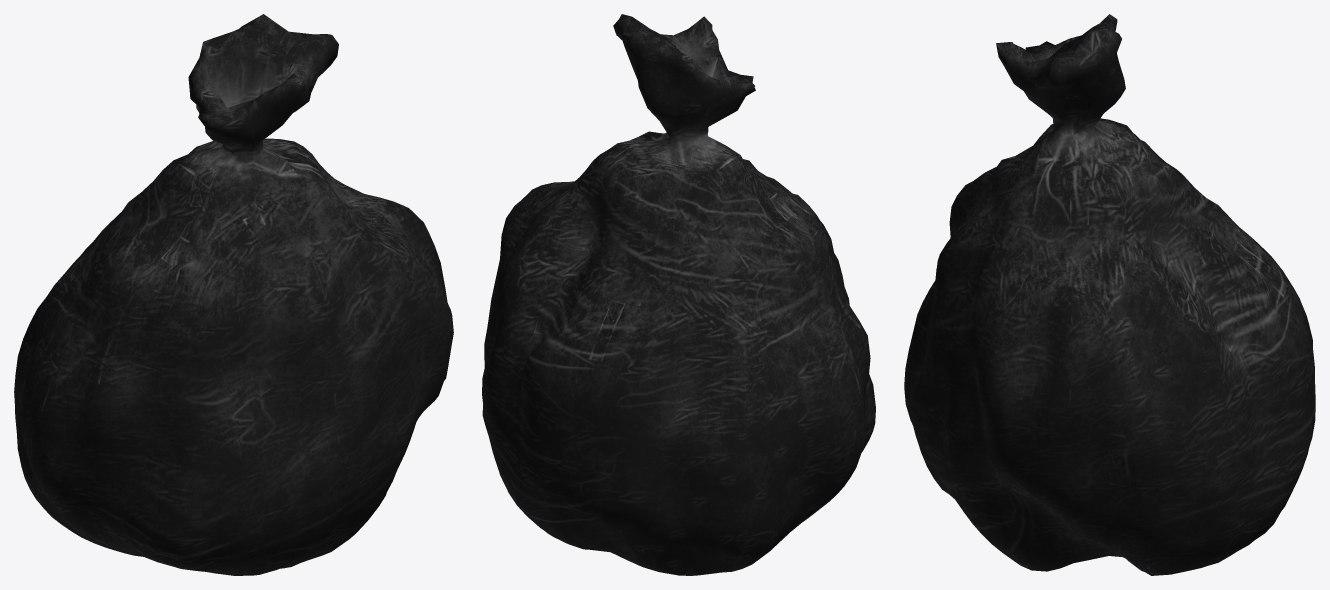
File: Trash_bag_01.fbx
3 views of the same model, side by side, from view 1: azimuth 30°, elevation 25°; view 2: azimuth 150°, elevation 25°; view 3: azimuth 270°, elevation 25° (orthographic). The views are drawn at different scales.
Visible parts, largest first — view 1: trahs_bag_01; view 2: trahs_bag_01; view 3: trahs_bag_01.
Boxes of the visible parts, bbox=[...] form: trahs_bag_01: bbox=[14, 14, 453, 575]; trahs_bag_01: bbox=[482, 14, 875, 575]; trahs_bag_01: bbox=[904, 14, 1315, 575].
Size of the model in its own units: 111 by 143 by 98.99.
